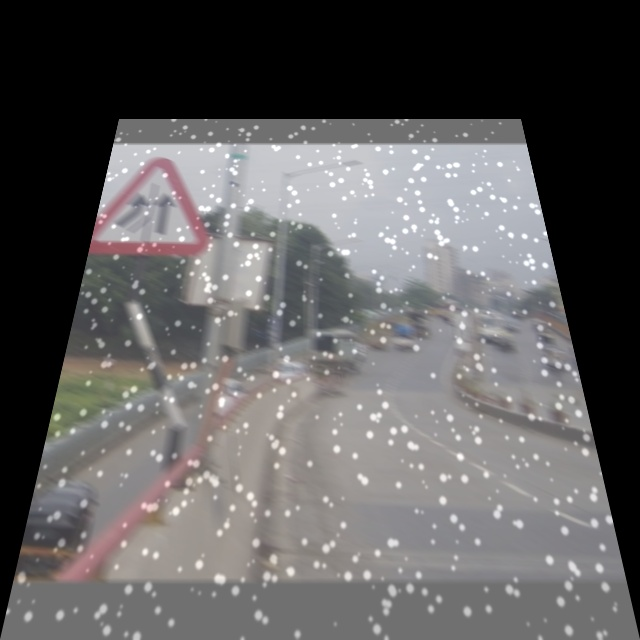Merge_Traffic_Ahead: (96, 161, 216, 255)
